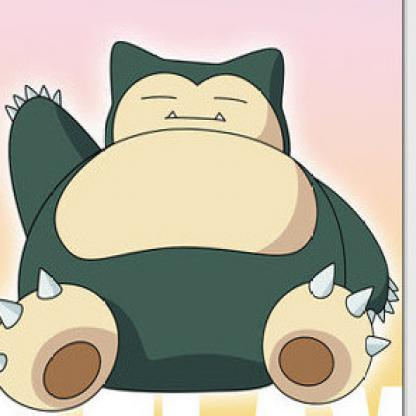Snorlax: (4, 1, 416, 416)
